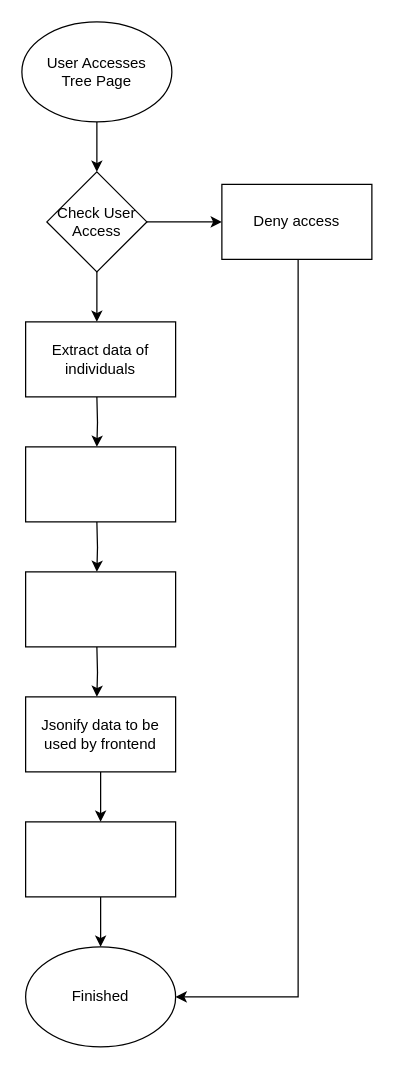
This 394x1069 diagram has some shape labels left out. The centre of each missing label's shape, as x and y in pixels:
"Assign applicable relations to each individual" belongs at (x=100, y=609).
"Extract data of families" belongs at (x=100, y=484).
"Frontend parses json data and renders an interactive tree" belongs at (x=100, y=859).
